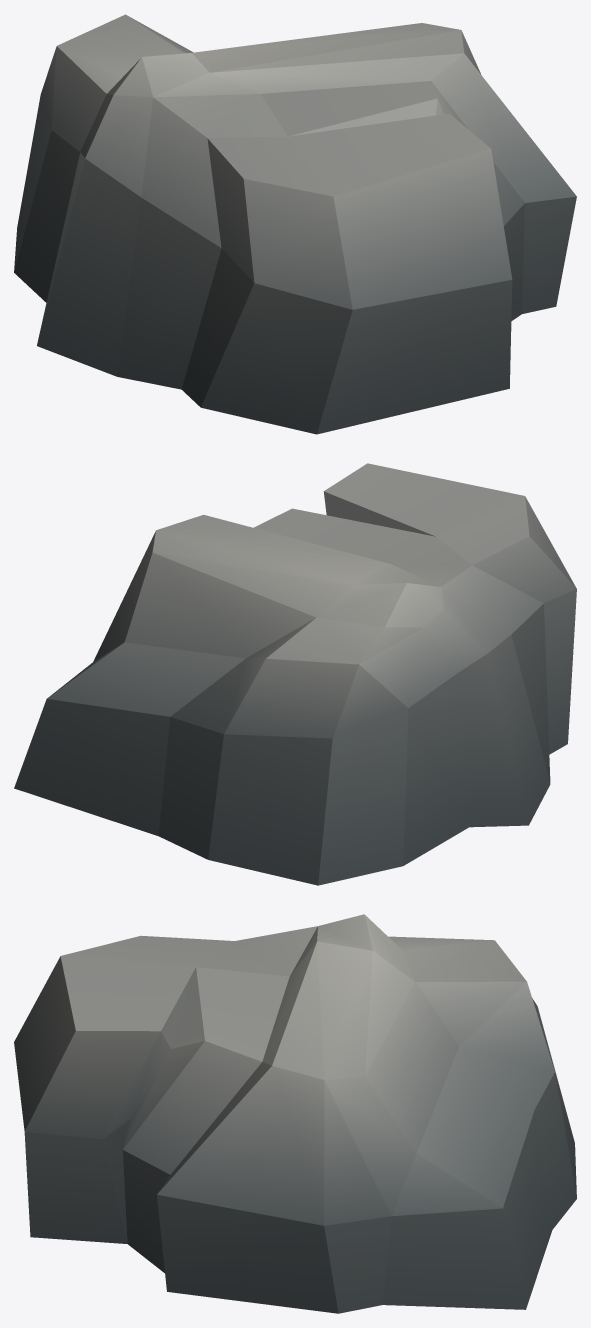
The model's file is Rock_Platform_Small.fbx.
3 renders of one model, top to bottom at view 1: azimuth 30°, elevation 25°; view 2: azimuth 150°, elevation 25°; view 3: azimuth 270°, elevation 25°, orthographic. The views are drawn at different scales.
Parts seen in each view (by area): view 1: Rock_Platform_Small; view 2: Rock_Platform_Small; view 3: Rock_Platform_Small.
Part boxes in pixels (bbox=[...]): Rock_Platform_Small: bbox=[14, 14, 576, 434]; Rock_Platform_Small: bbox=[14, 463, 576, 885]; Rock_Platform_Small: bbox=[14, 914, 576, 1313].
Size of the model in its own units: 637 by 319 by 690.
